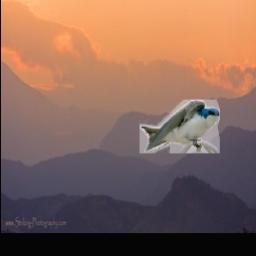Swallow: (140, 100, 220, 153)
